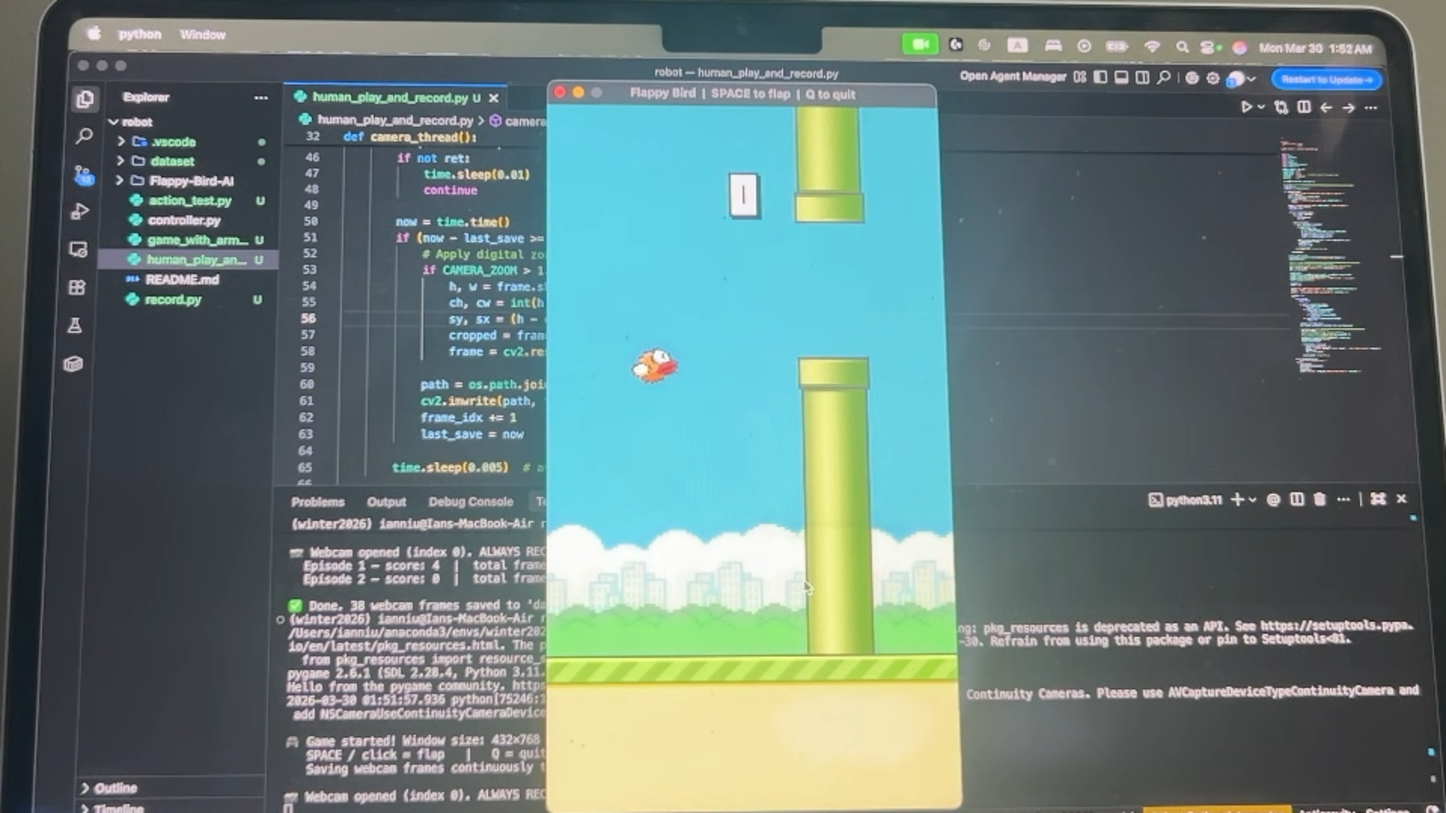bird: (633, 343, 680, 387)
green pipes: (800, 359, 878, 659), (793, 108, 868, 226)
